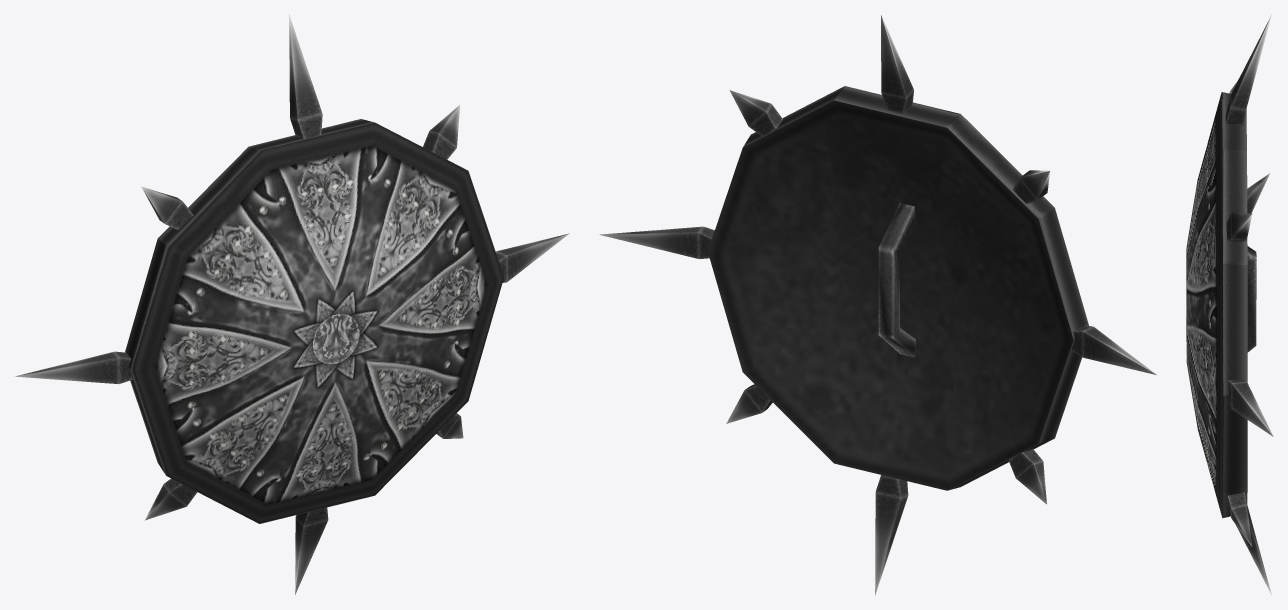
File: weapons_spiked_shield.glb
3 views of the same model, side by side, from view 1: azimuth 30°, elevation 25°; view 2: azimuth 150°, elevation 25°; view 3: azimuth 270°, elevation 25° (orthographic).
Visible parts, largest first — view 1: spiked_shield; view 2: spiked_shield; view 3: spiked_shield.
Boxes of the visible parts, left/top/right/bottom form: spiked_shield: left=15, top=14, right=569, bottom=594; spiked_shield: left=599, top=15, right=1156, bottom=595; spiked_shield: left=1186, top=15, right=1273, bottom=594.
Size of the model in its own units: 0.8537 by 0.8538 by 0.1167.
1 material, 1 textured.
